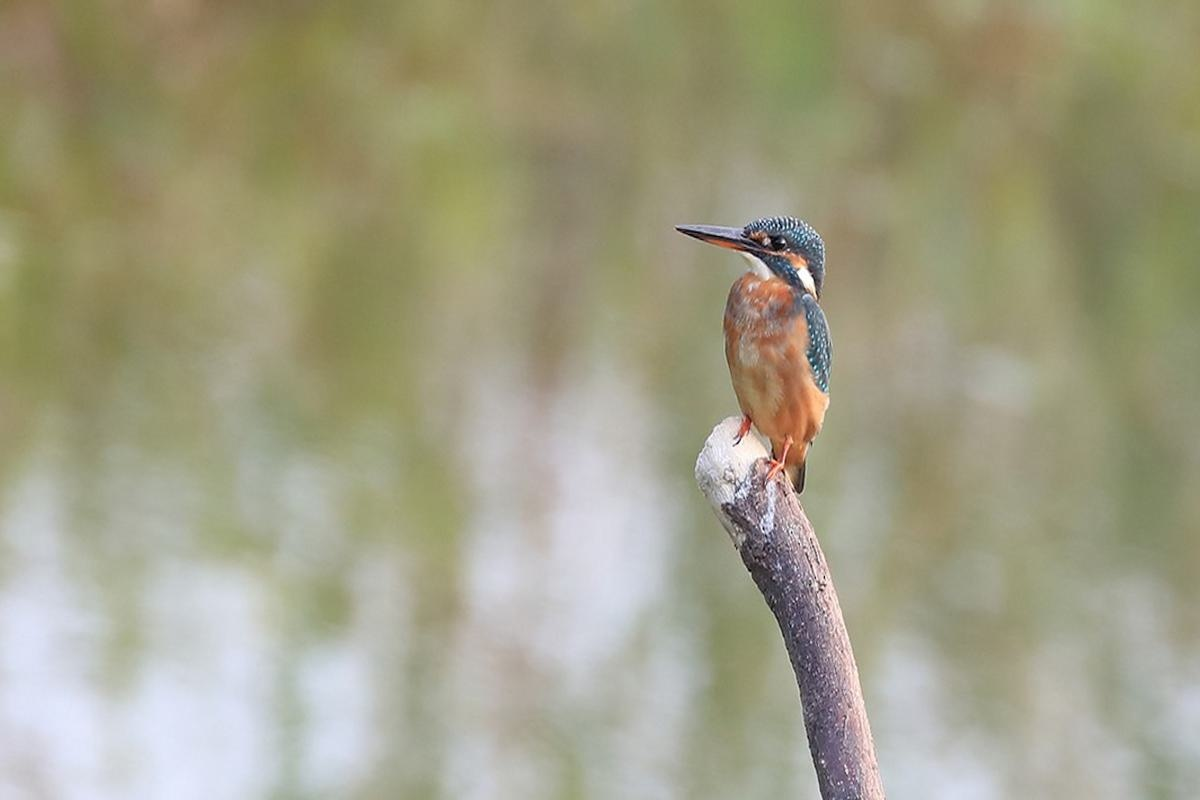kingfisher: (676, 203, 858, 506)
